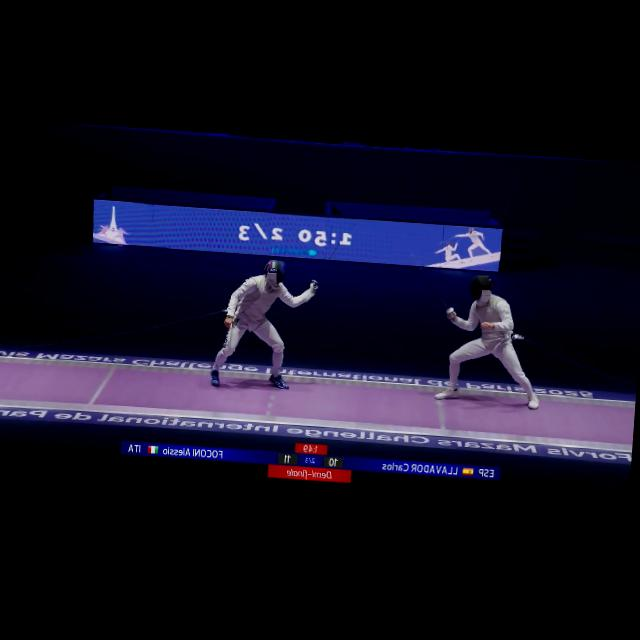blade: (398, 250, 458, 324), (306, 216, 354, 287)
